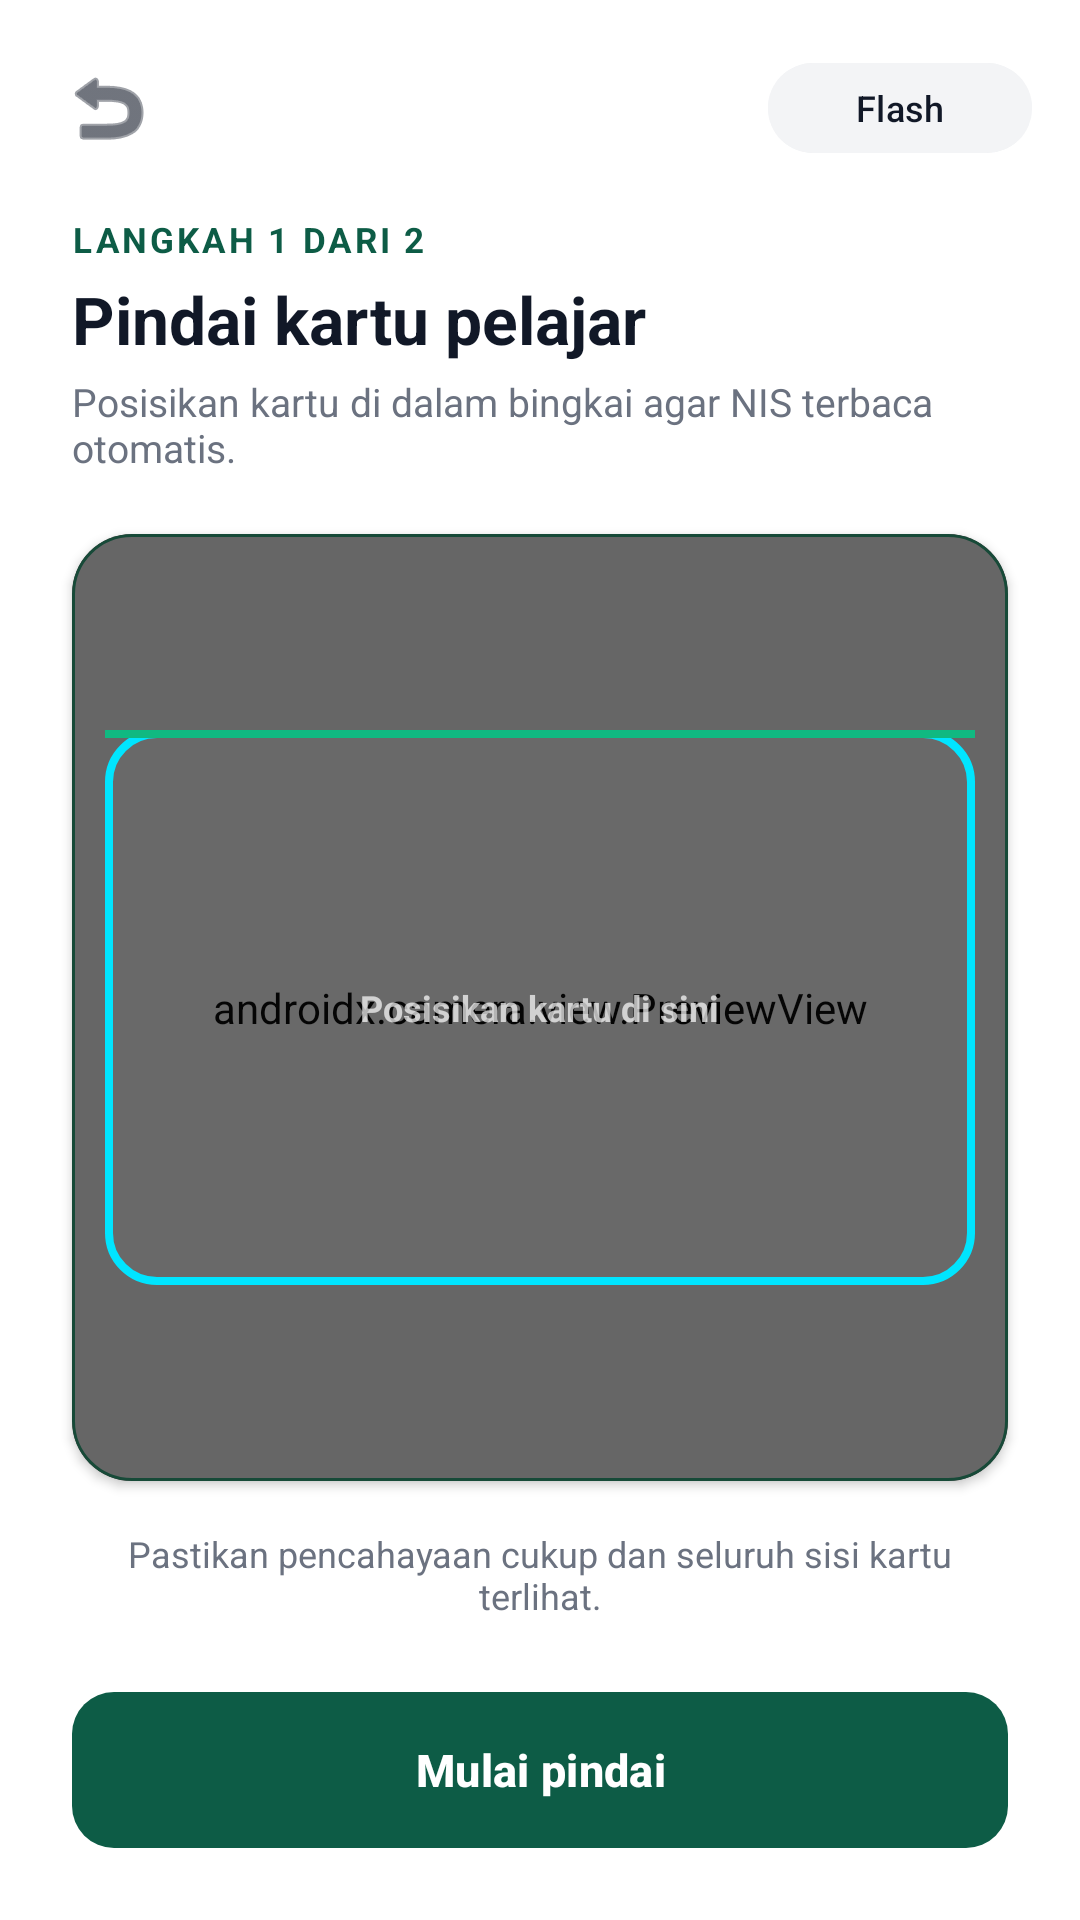

Named icons in this screenshot (1080*1920) and their centers, (x=x, y=y):
Kembali: (x=109, y=108)
